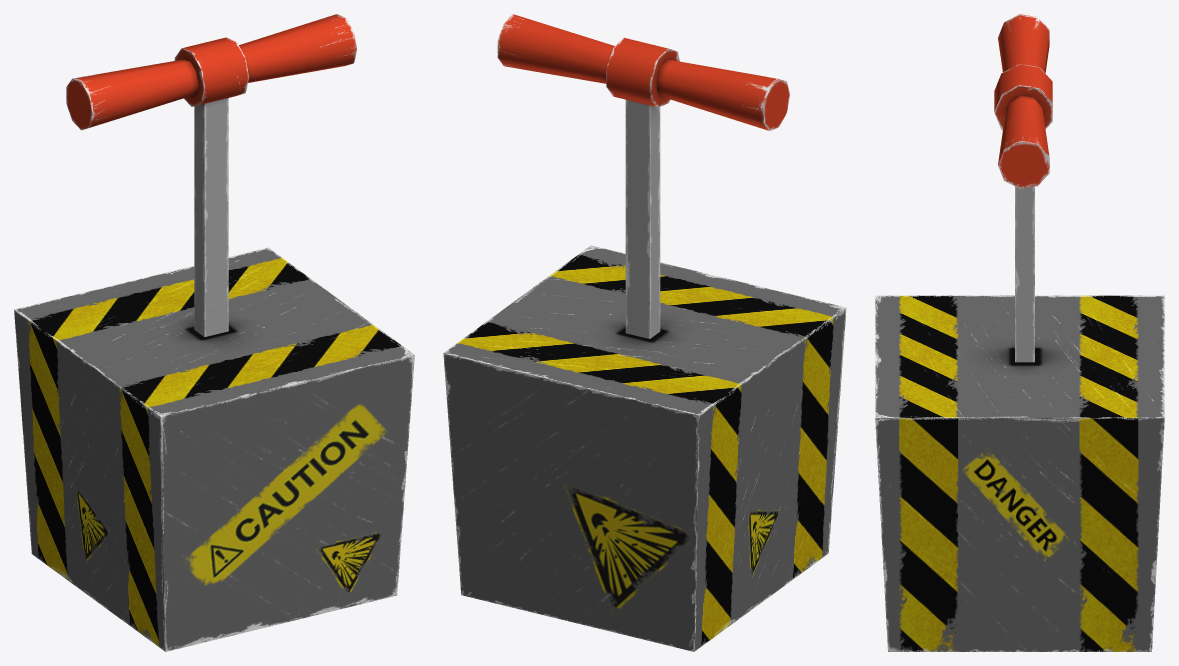
Rendered from Detonator.FBX.
The picture shows the model from 3 angles, left to right: view 1: azimuth 30°, elevation 25°; view 2: azimuth 150°, elevation 25°; view 3: azimuth 270°, elevation 25°; orthographic projection.
Visible parts, largest first — view 1: Detonator, Detonator_part; view 2: Detonator, Detonator_part; view 3: Detonator, Detonator_part.
Part boxes in pixels (x1,y1,x2,y2): Detonator: (14,247,414,651); Detonator_part: (66,14,356,337); Detonator: (443,245,846,651); Detonator_part: (497,14,789,338); Detonator: (875,295,1164,651); Detonator_part: (994,14,1052,362).
Size of the model in its own units: 13.07 by 24.92 by 12.55.
1 material, 1 textured.
